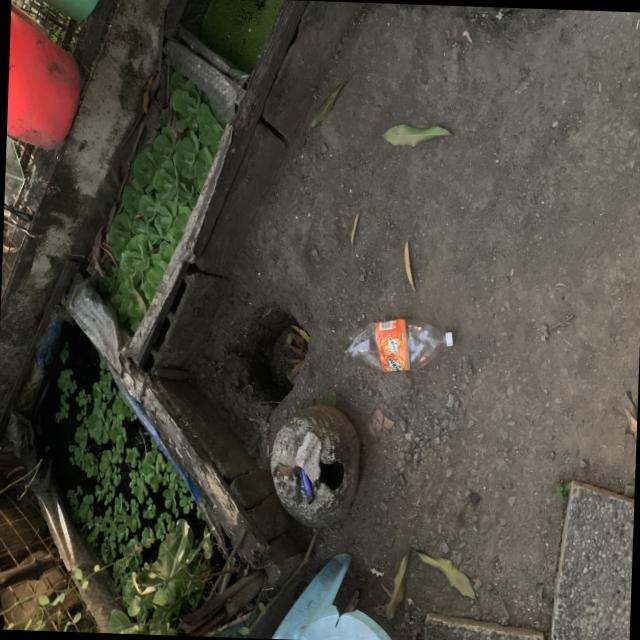Bottle: (345, 317, 453, 371)
